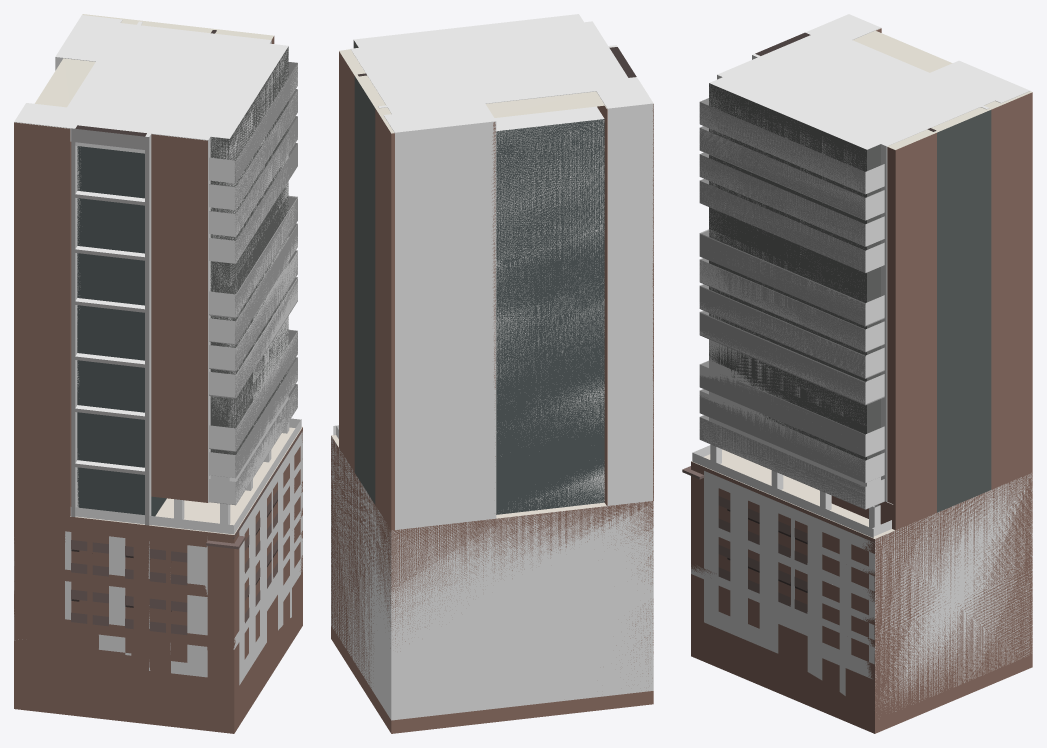
Rendered from tower_office3.dae.
3 renders of one model, left to right at view 1: azimuth 30°, elevation 25°; view 2: azimuth 150°, elevation 25°; view 3: azimuth 270°, elevation 25°, orthographic. The views are drawn at different scales.
Visible parts, largest first — view 1: tower_office3_a250, tower_office3_a500; view 2: tower_office3_a500, tower_office3_a250; view 3: tower_office3_a250, tower_office3_a500.
Boxes of the visible parts, <box> form: tower_office3_a250: <box>14,14,302,733</box>; tower_office3_a500: <box>14,15,302,685</box>; tower_office3_a500: <box>331,14,653,720</box>; tower_office3_a250: <box>331,40,653,733</box>; tower_office3_a250: <box>691,28,1032,733</box>; tower_office3_a500: <box>682,14,1032,711</box>.
Size of the model in its own units: 41.34 by 42.37 by 76.74.
